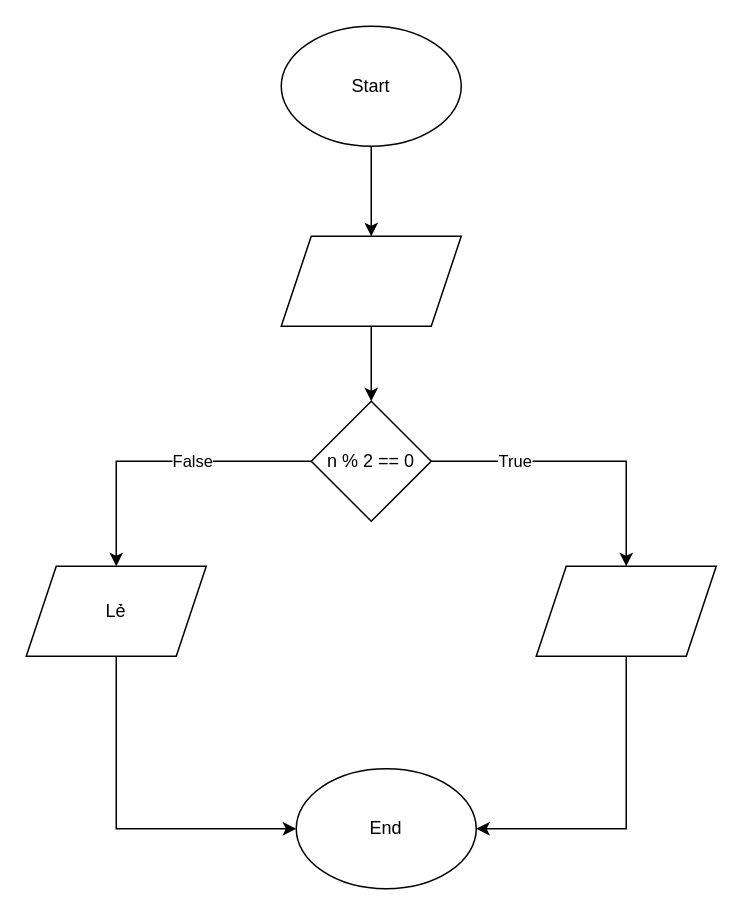
Some shapes in this 743 by 915 pixel diagram are drawn without their labels. Here are the shapes that lost their labels. From the top down, the centre of each, then its label:
At point 370,280: "int x".
At point 625,610: "Chẵn".
